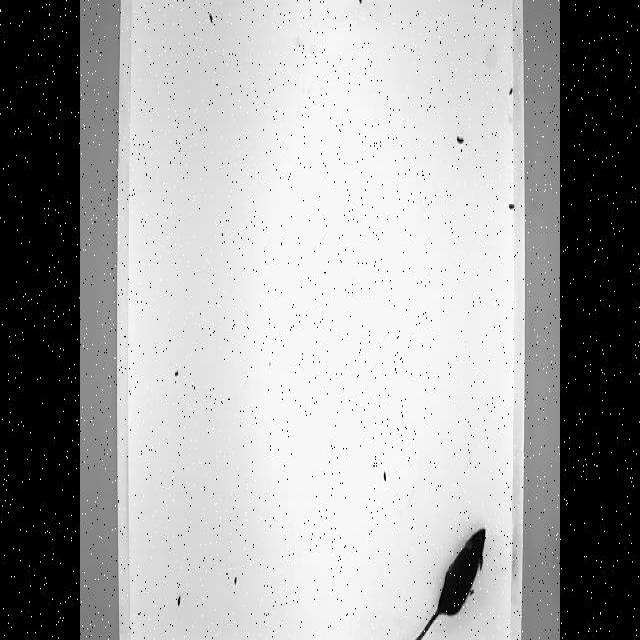rat: (375, 518, 490, 640)
